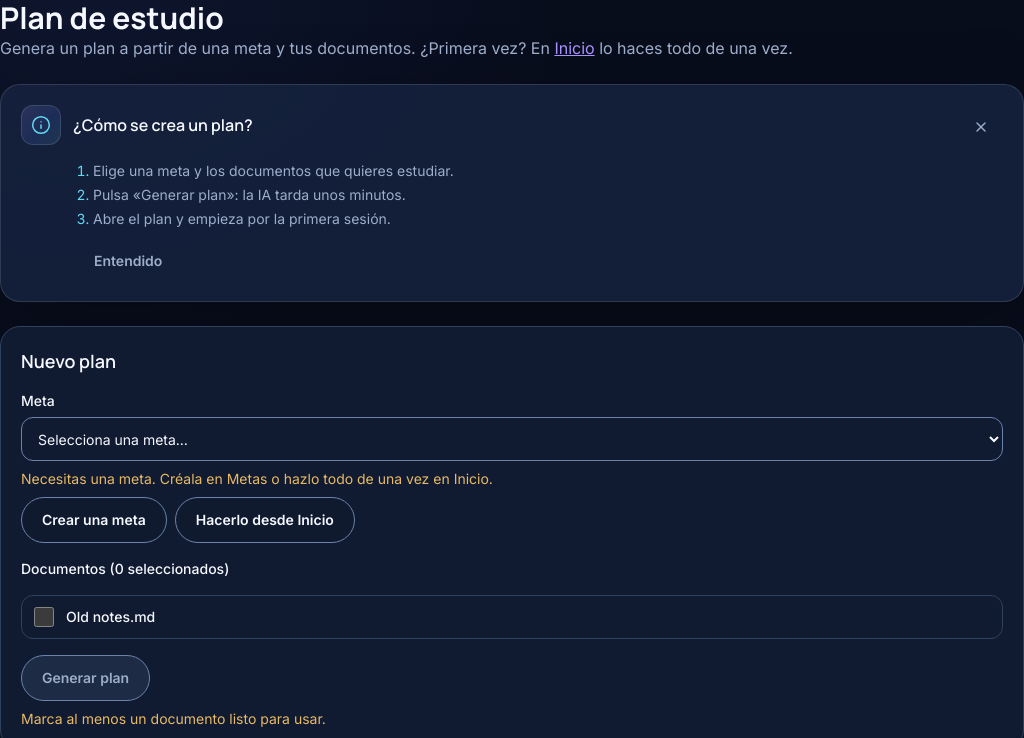
Test: PlanPage generation › preserves a previously selected indexed document after a refetch error
What coordinates should you click on to do the following:
click the checkbox labelled "Old notes.md"
I would click on:
 (44, 617)
Its box is [34,607,54,627].
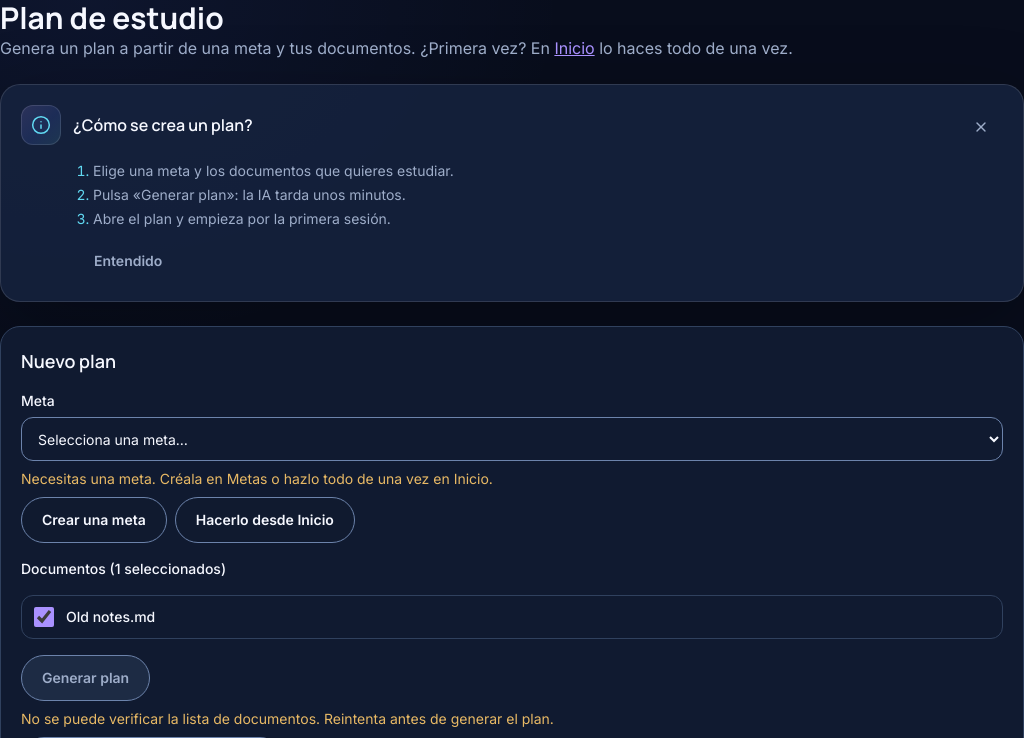
Expected: the text "Old notes.md" is shown, [66,608,155,625]
Now the checkbox labelled "Old notes.md" is checked, box [34,607,54,627]
Now the message shows "No se puede verificar", box [21,710,554,727]
